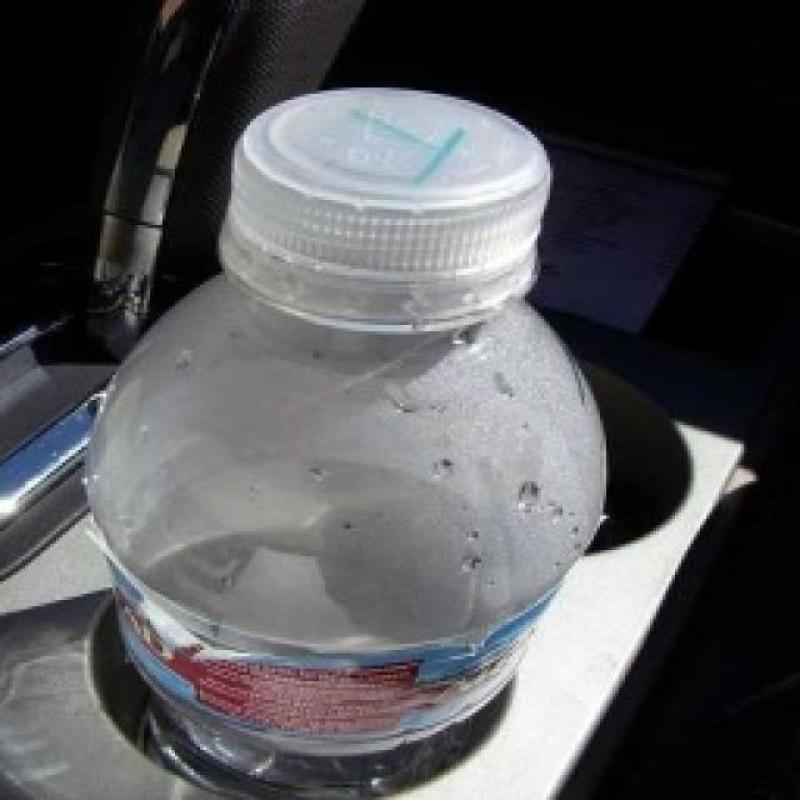botella: (85, 81, 610, 785)
